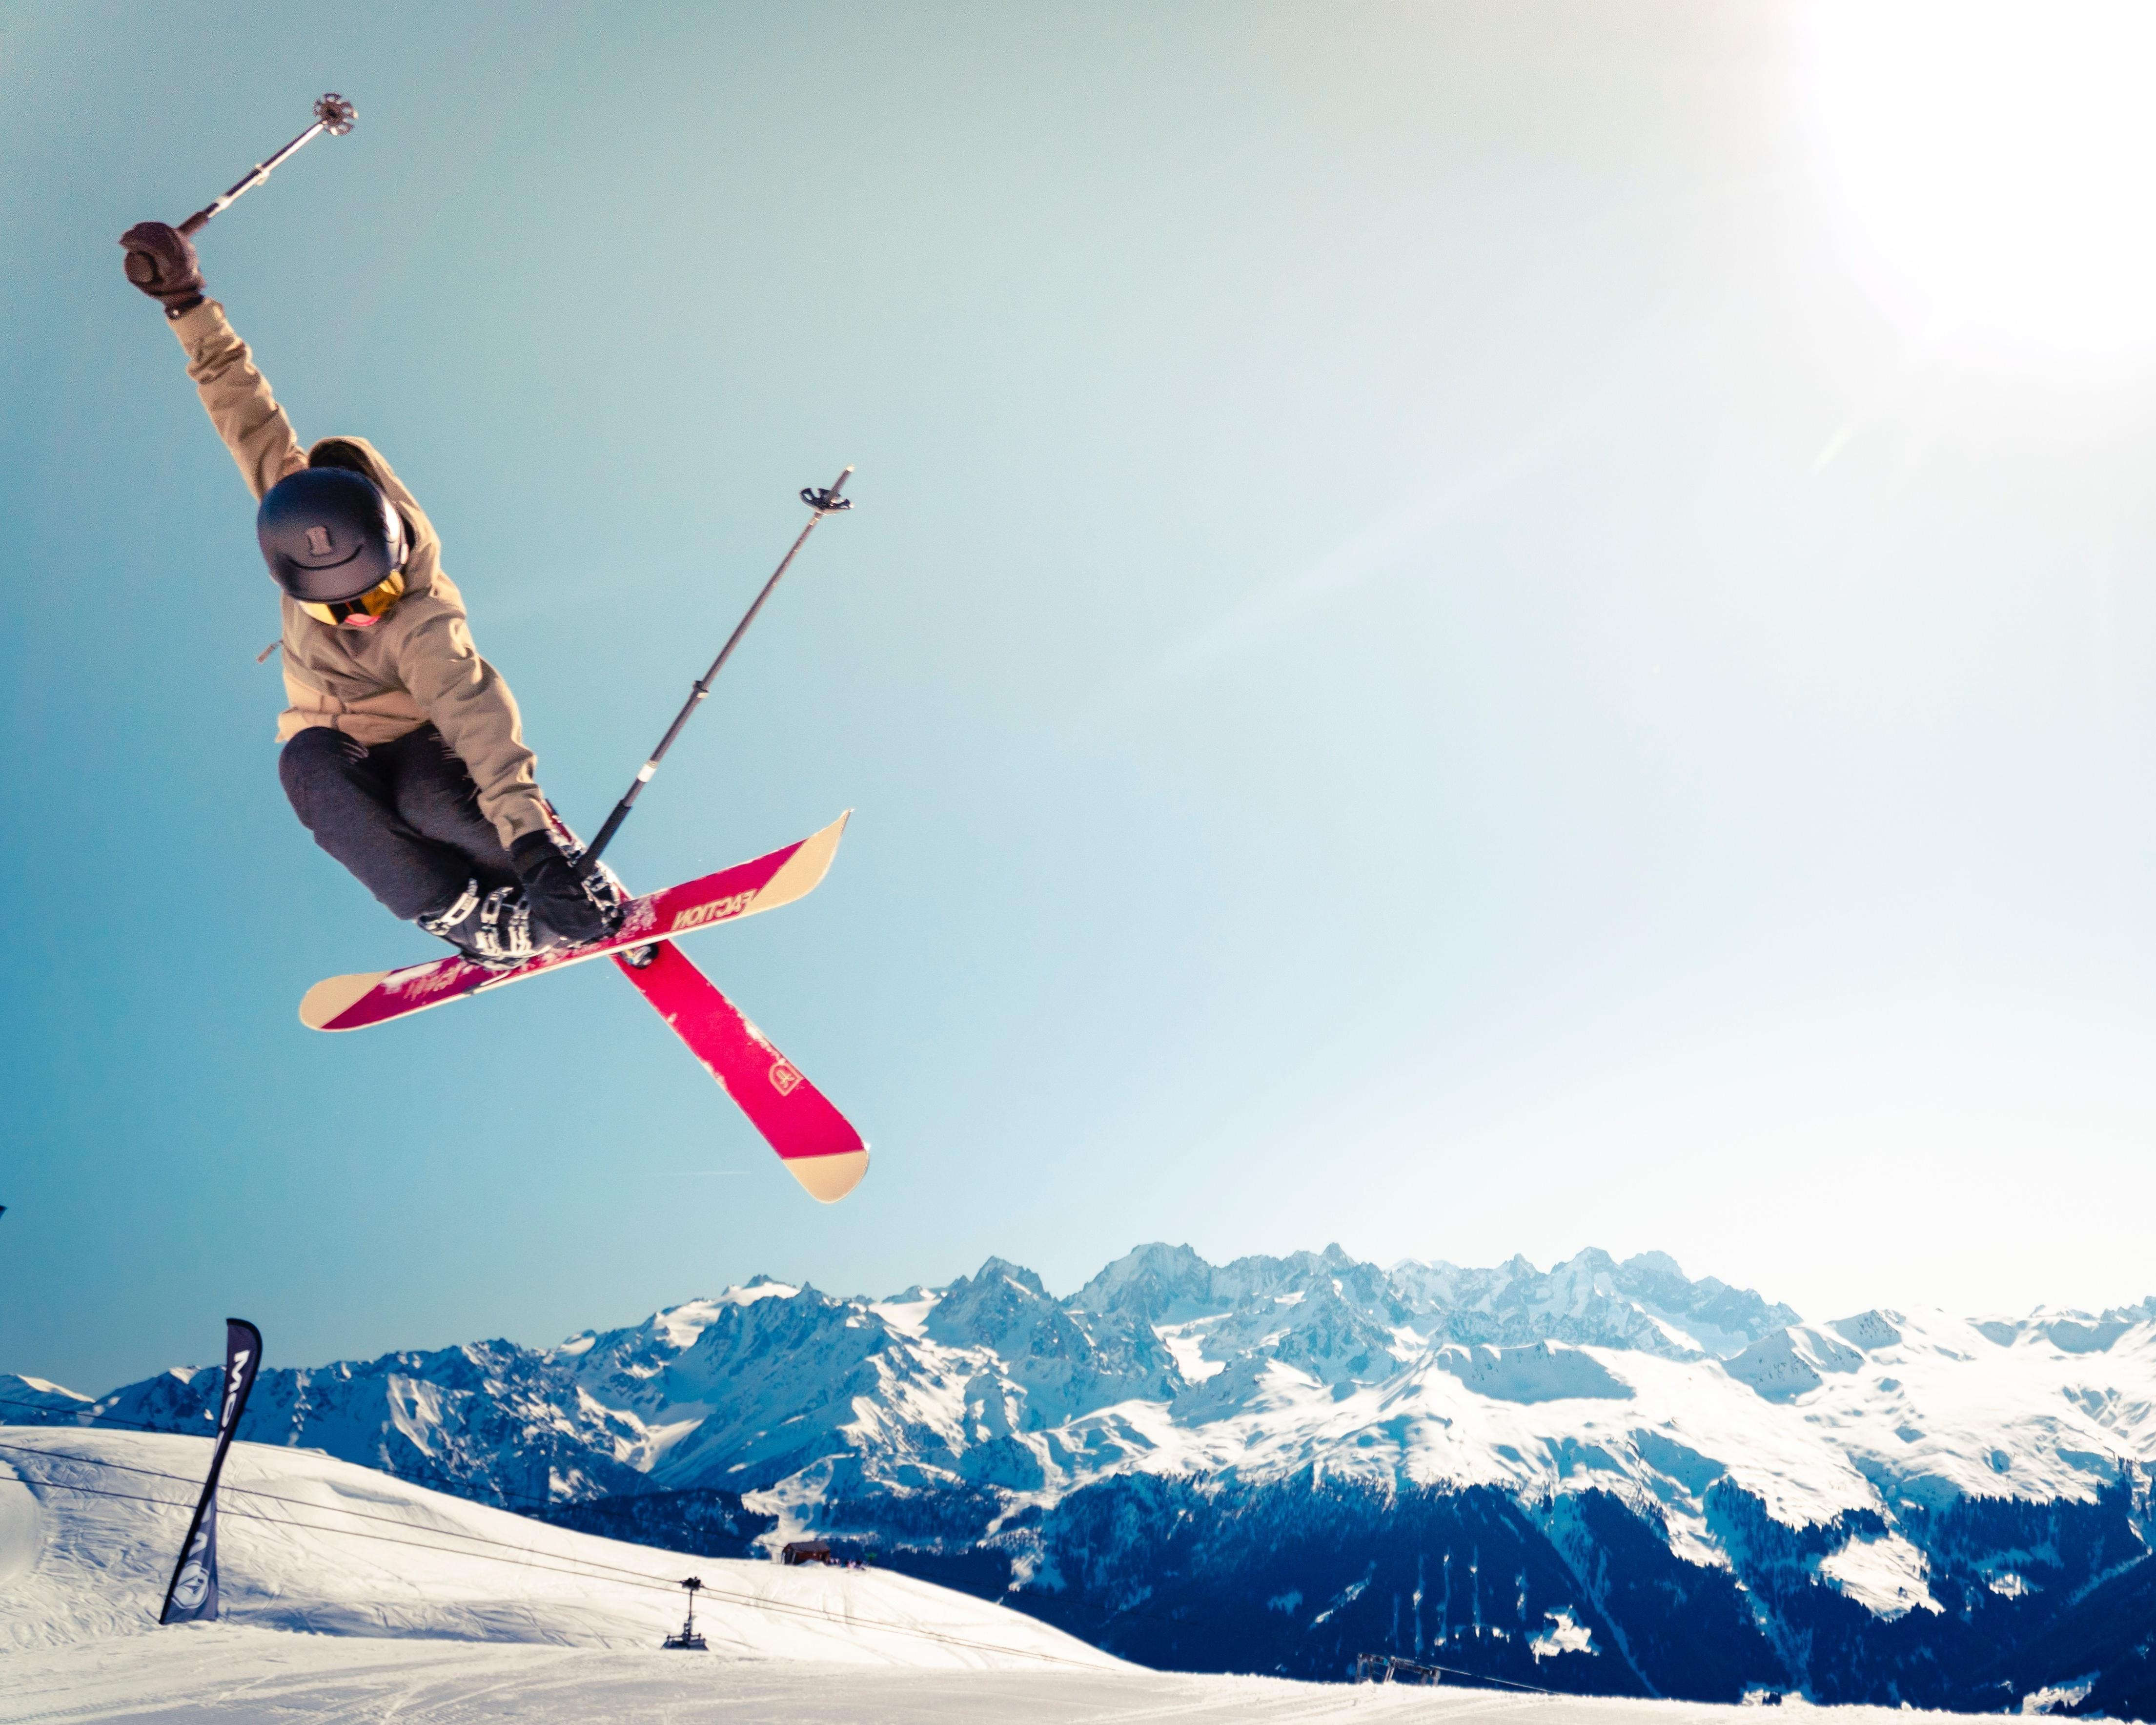Skis: (257, 790, 913, 1222)
